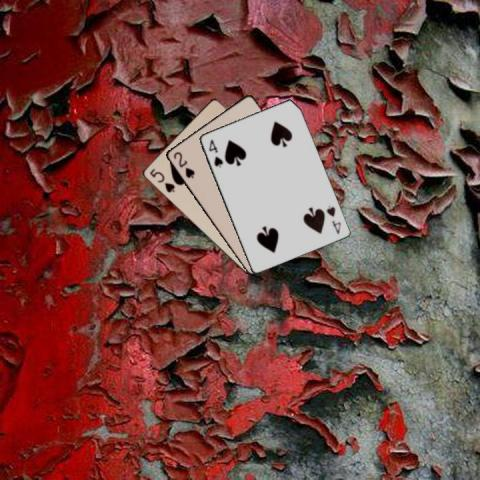2s: (170, 149, 196, 180)
4s: (205, 136, 224, 169), (323, 202, 342, 235)
5s: (147, 165, 176, 194)
